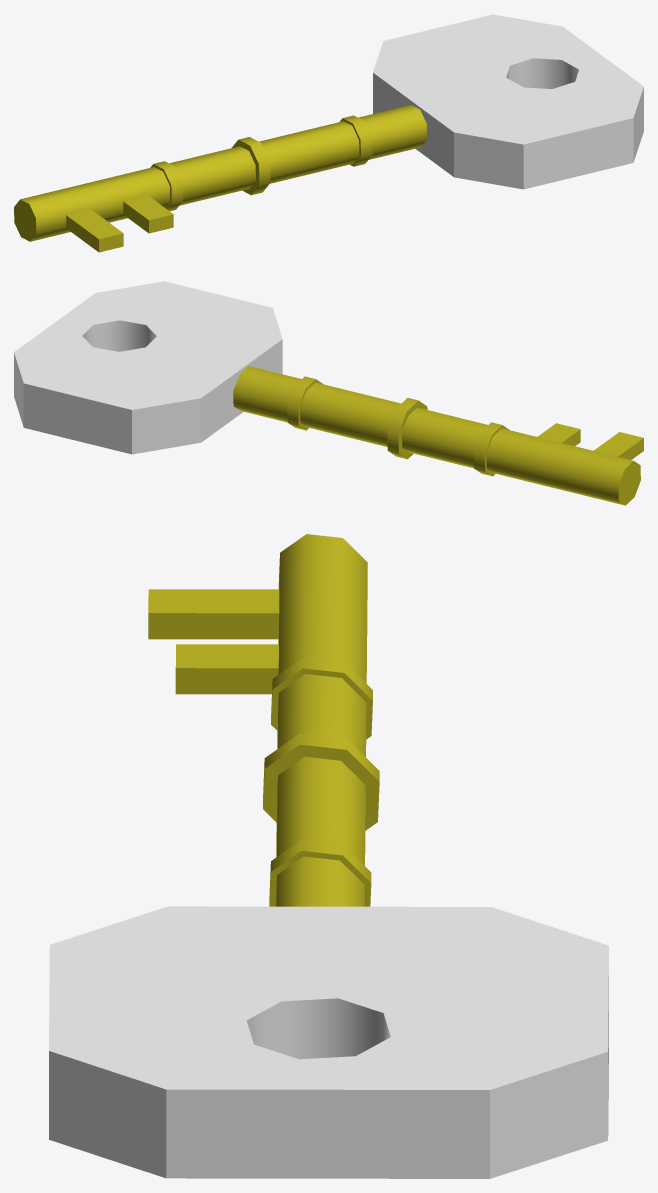
The model's file is Llave.fbx.
The picture shows the model from 3 angles, top to bottom: view 1: azimuth 30°, elevation 25°; view 2: azimuth 150°, elevation 25°; view 3: azimuth 270°, elevation 25°; orthographic projection. The views are drawn at different scales.
Parts seen in each view (by area): view 1: Llave; view 2: Llave; view 3: Llave.
Part boxes in pixels (box(x1,y1,x2,y2)): Llave: box(14, 14, 643, 252); Llave: box(14, 281, 643, 505); Llave: box(49, 534, 608, 1178).
Size of the model in its own units: 13.78 by 1.17 by 5.82.
